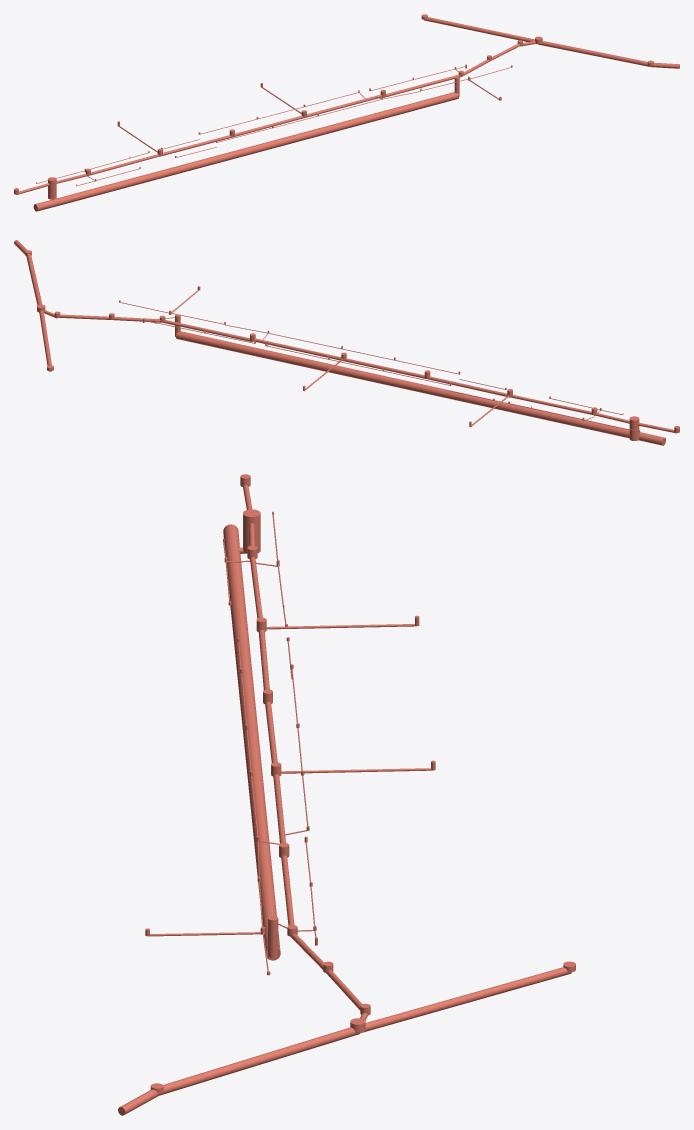
Rendered from 大宮管渠人孔-赤.ifc.glb.
3 renders of one model, top to bottom at view 1: azimuth 30°, elevation 25°; view 2: azimuth 150°, elevation 25°; view 3: azimuth 270°, elevation 25°, orthographic. The views are drawn at different scales.
Parts seen in each view (by area): view 1: product-a3f503cc-339d-409f-b774-bb05fed2816e-body, product-a3f503cc-339d-409f-b774-bb05fed2811d-body, product-a3f503cc-339d-409f-b774-bb05fed28172-body; view 2: product-a3f503cc-339d-409f-b774-bb05fed2816e-body, product-a3f503cc-339d-409f-b774-bb05fed2811d-body, product-a3f503cc-339d-409f-b774-bb05fed28176-body, product-a3f503cc-339d-409f-b774-bb05fed28174-body, product-a3f503cc-339d-409f-b774-bb05fed2816b-body; view 3: product-a3f503cc-339d-409f-b774-bb05fed2811d-body, product-a3f503cc-339d-409f-b774-bb05fed2816e-body, product-a3f503cc-339d-409f-b774-bb05fed28172-body, product-a3f503cc-339d-409f-b774-bb05fed2814d-body.
Boxes of the visible parts, left/top/right/bottom form: product-a3f503cc-339d-409f-b774-bb05fed2816e-body: left=252, top=92, right=458, bottom=153; product-a3f503cc-339d-409f-b774-bb05fed2811d-body: left=57, top=146, right=253, bottom=205; product-a3f503cc-339d-409f-b774-bb05fed28172-body: left=424, top=17, right=530, bottom=41; product-a3f503cc-339d-409f-b774-bb05fed2816e-body: left=176, top=331, right=414, bottom=390; product-a3f503cc-339d-409f-b774-bb05fed2811d-body: left=412, top=382, right=629, bottom=438; product-a3f503cc-339d-409f-b774-bb05fed28176-body: left=162, top=320, right=252, bottom=342; product-a3f503cc-339d-409f-b774-bb05fed28174-body: left=343, top=358, right=426, bottom=378; product-a3f503cc-339d-409f-b774-bb05fed2816b-body: left=427, top=376, right=509, bottom=397; product-a3f503cc-339d-409f-b774-bb05fed2811d-body: left=225, top=546, right=259, bottom=746; product-a3f503cc-339d-409f-b774-bb05fed2816e-body: left=244, top=741, right=280, bottom=960; product-a3f503cc-339d-409f-b774-bb05fed28172-body: left=371, top=967, right=571, bottom=1029; product-a3f503cc-339d-409f-b774-bb05fed2814d-body: left=178, top=1051, right=277, bottom=1088.
Size of the model in its own units: 573 by 21.31 by 179.
